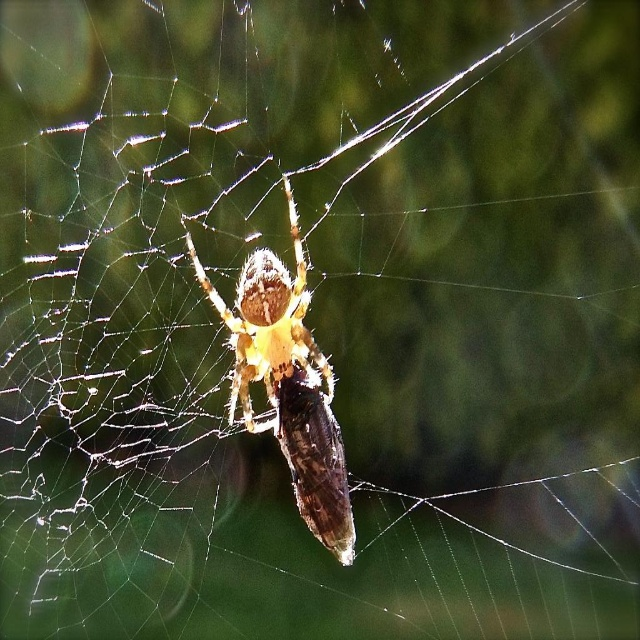Spider: (185, 175, 356, 567)
